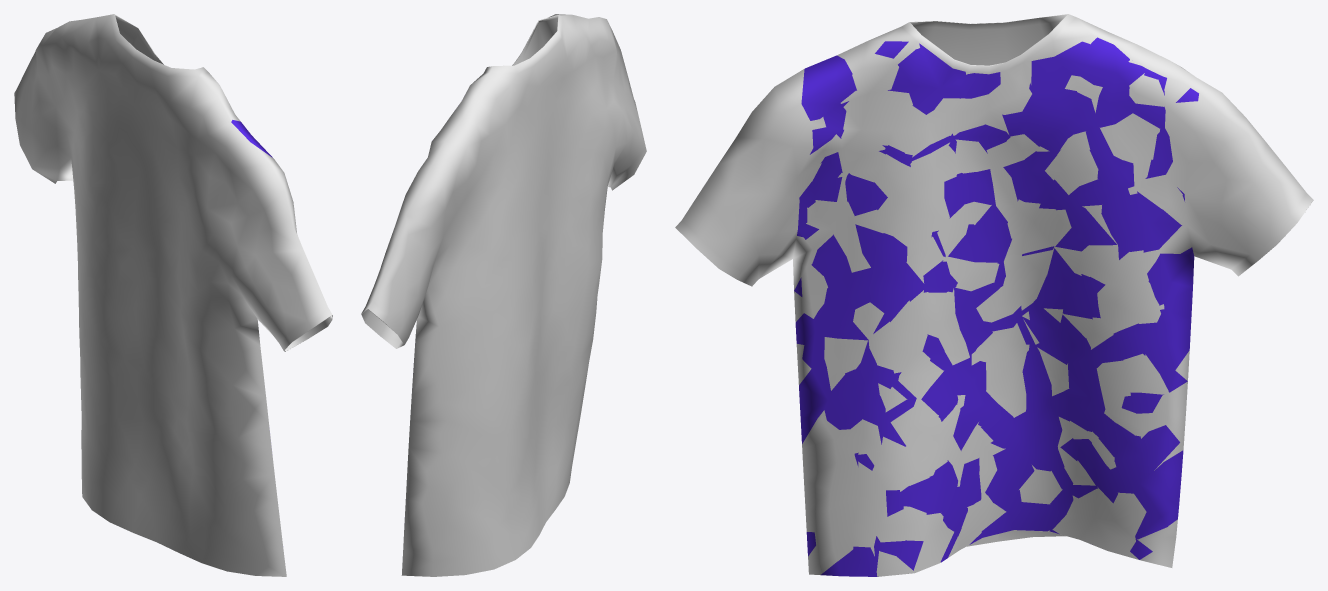
File: new_shirt.glb
The picture shows the model from 3 angles, left to right: view 1: azimuth 30°, elevation 25°; view 2: azimuth 150°, elevation 25°; view 3: azimuth 270°, elevation 25°; orthographic projection. The views are drawn at different scales.
Parts seen in each view (by area): view 1: Shirt; view 2: Shirt; view 3: Shirt.
Boxes of the visible parts, x1,y1,x2,y2 form: Shirt: (14, 14, 332, 576); Shirt: (361, 14, 646, 576); Shirt: (675, 14, 1313, 576).
Size of the model in its own units: 3.73 by 18.81 by 20.29.
